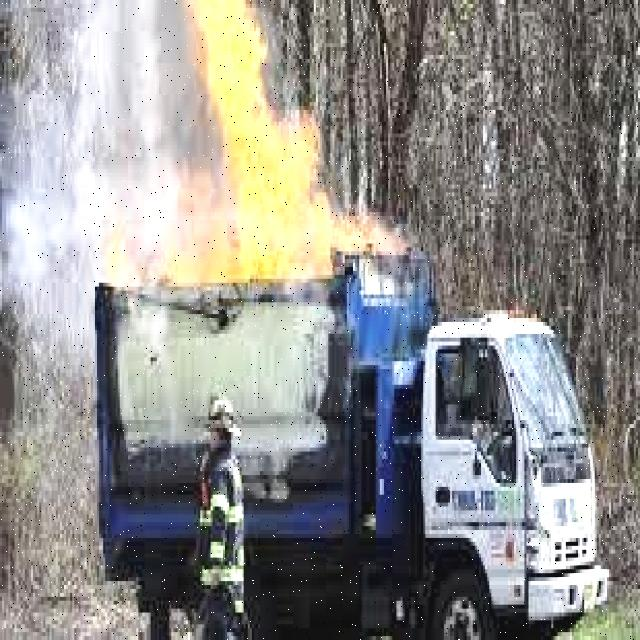api: (80, 1, 406, 315)
